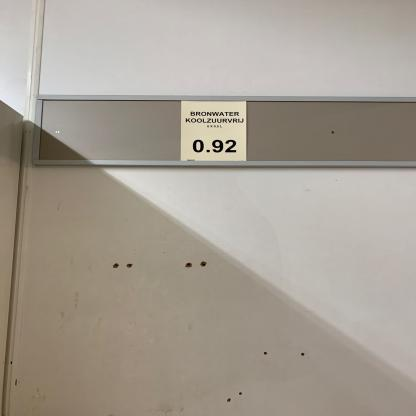prtg: (181, 102, 248, 163)
